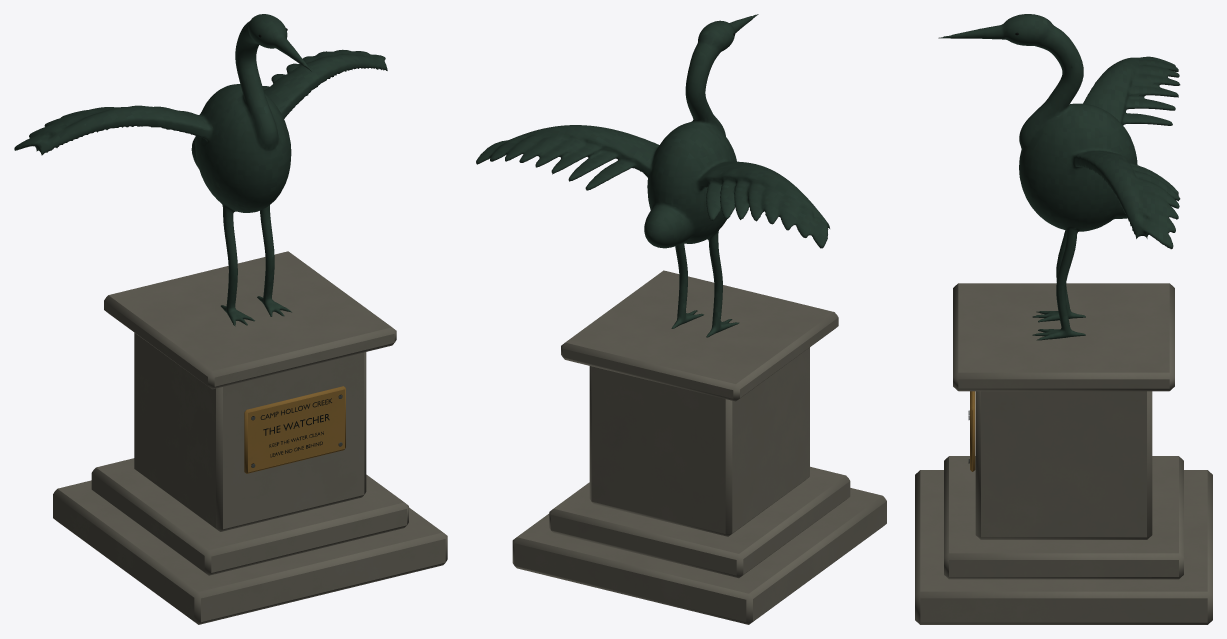
The model's file is level_camp_heron_memorial_organic.glb.
3 views of the same model, side by side, from view 1: azimuth 30°, elevation 25°; view 2: azimuth 150°, elevation 25°; view 3: azimuth 270°, elevation 25° (orthographic). The views are drawn at different scales.
Parts seen in each view (by area): view 1: level_camp_heron_memorial_organic; view 2: level_camp_heron_memorial_organic; view 3: level_camp_heron_memorial_organic.
Boxes of the visible parts, x1,y1,x2,y2 form: level_camp_heron_memorial_organic: (14,14,447,624); level_camp_heron_memorial_organic: (476,14,886,624); level_camp_heron_memorial_organic: (915,14,1212,624).
Bounding box in the file's own units: 2.1 × 2.95 × 1.45.
4 materials, 4 textured.
